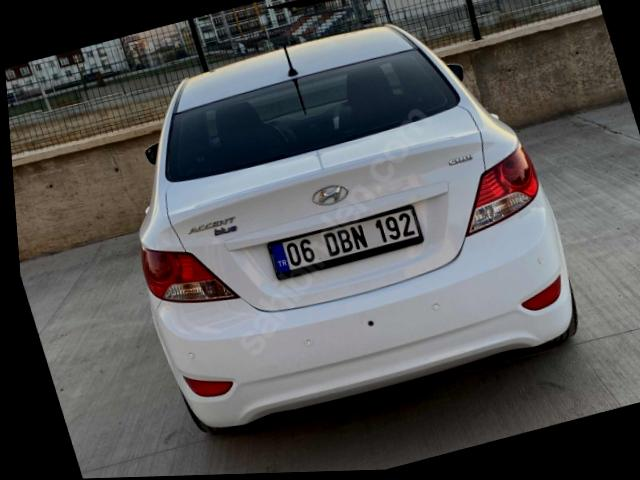plaka: (267, 205, 422, 279)
